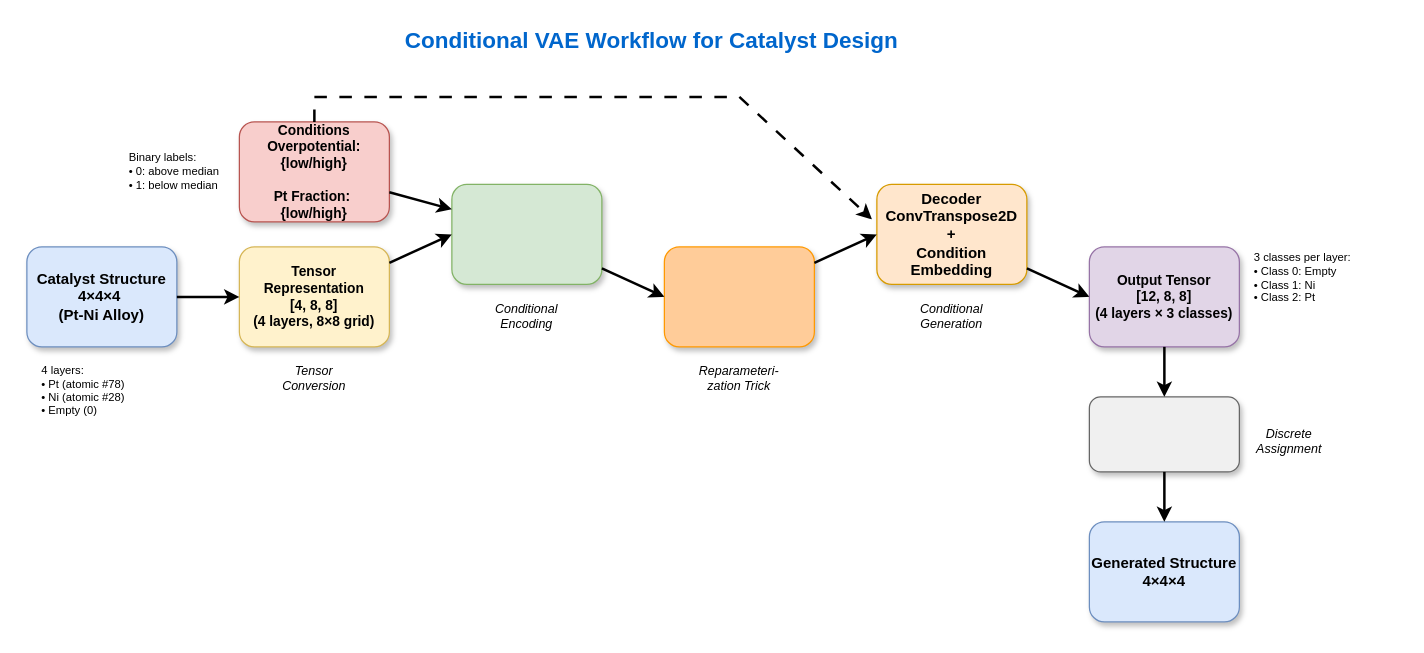
Image size: 1424x653. Some labels were removed from this diagram. Each missing label, with the centre of its shape:
Encoder Conv2D Layers + Condition Embedding: the point at 527,235
Latent Variables z ~ N(μ, σ²) [32-dim]: the point at 740,298
Softmax Class Selection (Empty/Ni/Pt): the point at 1165,436
